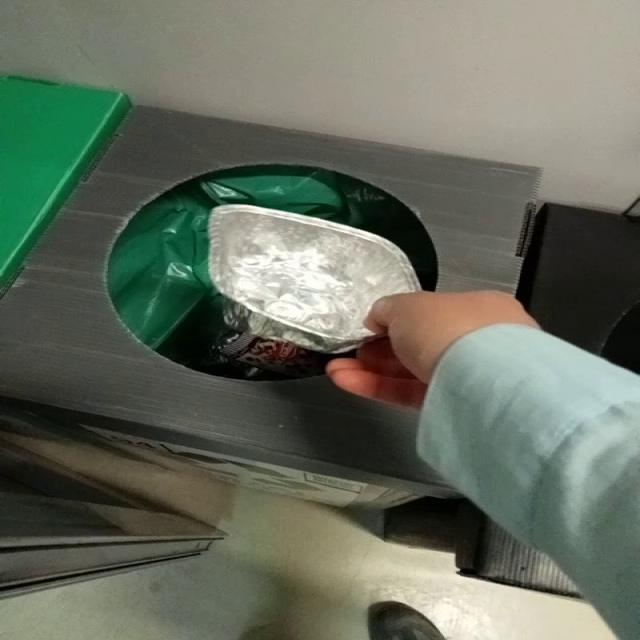Bin: (3, 106, 540, 506)
Metal: (208, 204, 421, 354)
